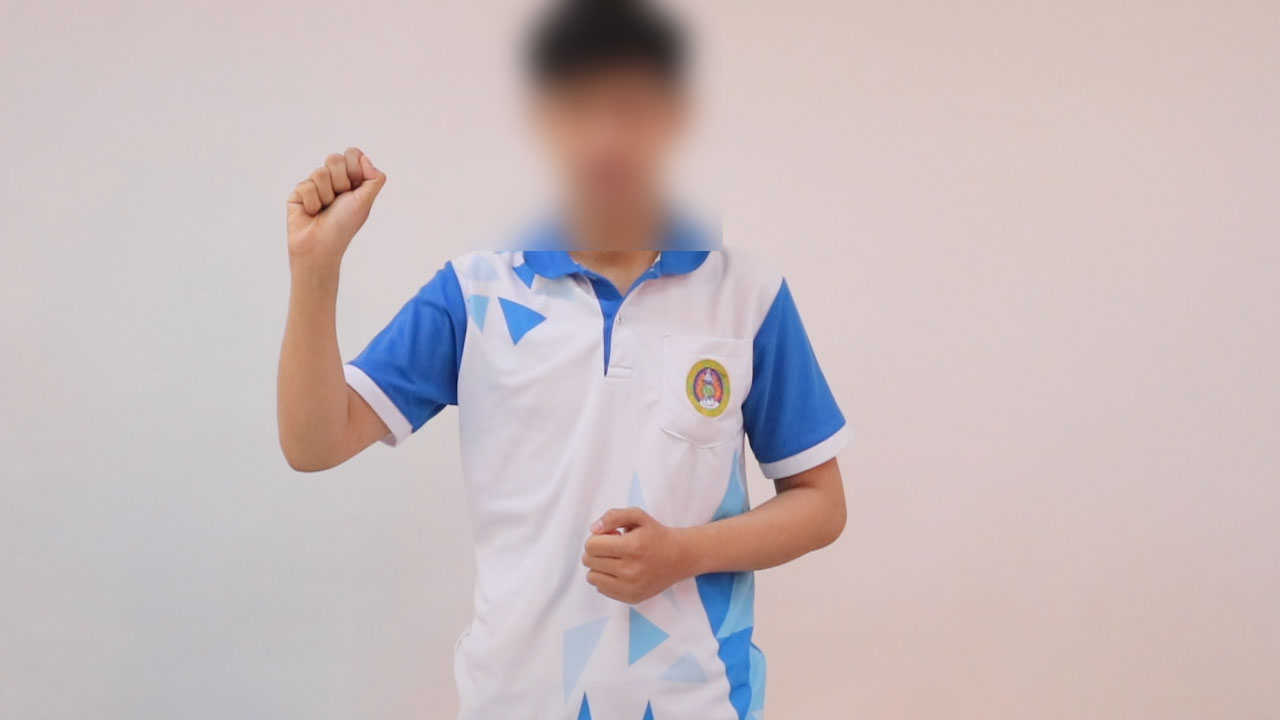sor: (270, 141, 394, 282)
